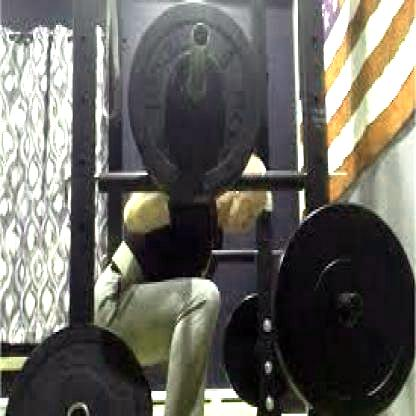Barbell: (190, 20, 213, 52)
